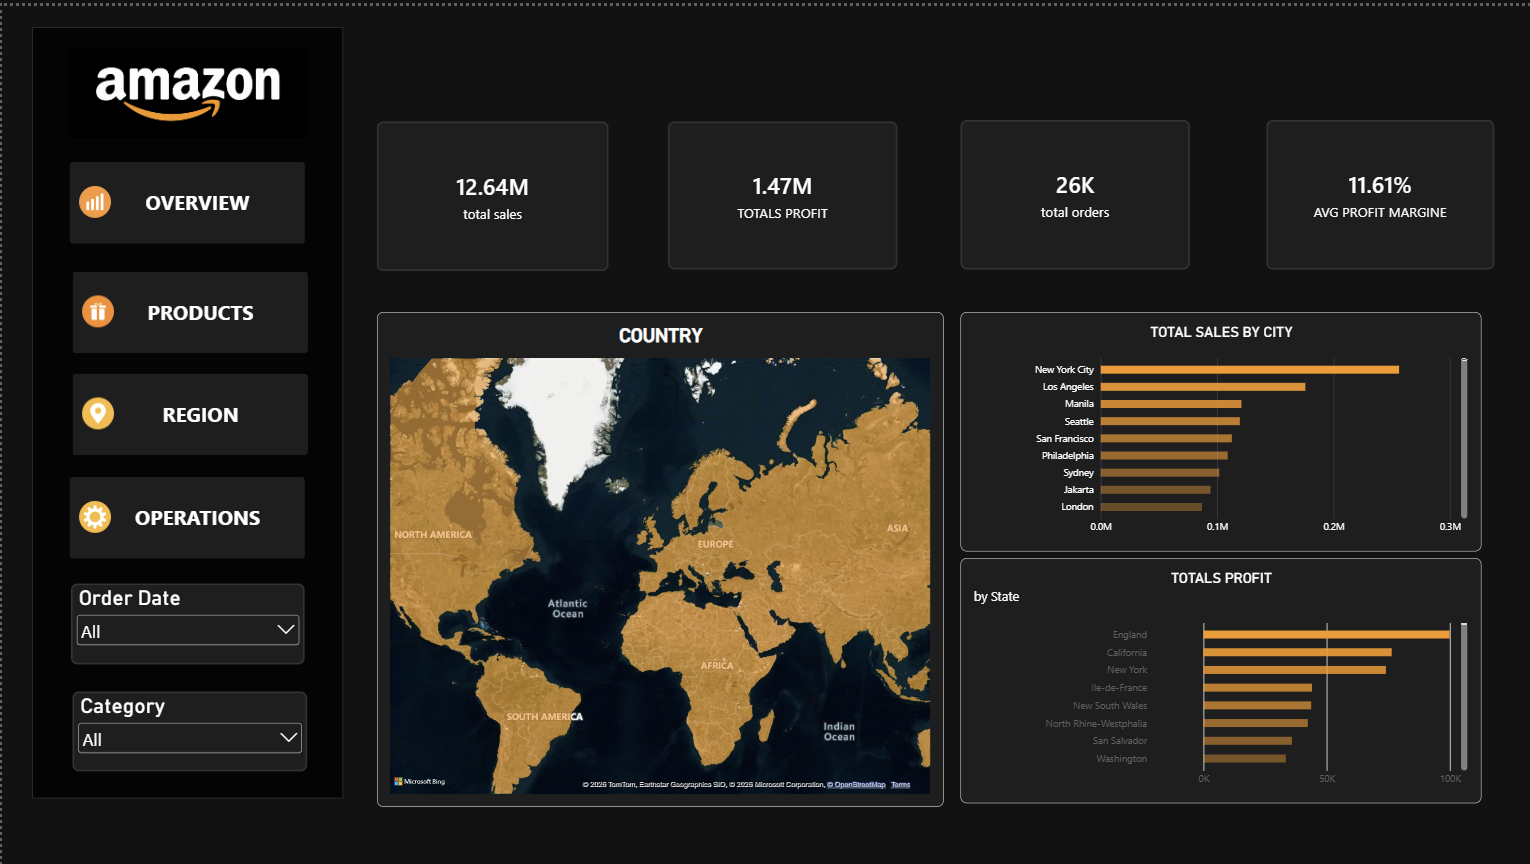

Layout of this report page (visuals, bound fields, positions):
{"tool":"powerbi","page":{"name":"REGION","canvas":[1920,1080],"ordinal":2},"visuals":[{"type":"card","fields":{"Values":["Orders.total sales"]},"box":[470,145,290,187.5],"z":0},{"type":"card","fields":{"Values":["Orders.total orders"]},"box":[1200,142.5,287.5,187.5],"z":1000},{"type":"card","fields":{"Values":["Orders.TOTALS PROFIT"]},"box":[835,145,287.5,185],"z":2000},{"type":"card","fields":{"Values":["Orders.AVG PROFIT MARGINE"]},"box":[1585,142.5,285,187.5],"z":3000},{"type":"clusteredBarChart","title":"TOTAL SALES BY CITY","fields":{"Y":["Orders.total sales"],"Category":["Orders.City"]},"box":[1200,382.5,652.5,300],"z":4000},{"type":"clusteredBarChart","fields":{"Category":["Orders.State"],"Y":["Orders.TOTALS PROFIT"]},"box":[1200,692.5,652.5,307.5],"z":5000},{"type":"textbox","box":[5,100,290,188],"z":6000},{"type":"shape","box":[36.7,26.7,390,966.7],"z":7000},{"type":"actionButton","box":[85,195,295,102.5],"z":8000},{"type":"actionButton","box":[87.5,332.5,295,102.5],"z":9000},{"type":"actionButton","box":[87.5,460,295,102.5],"z":10000},{"type":"actionButton","box":[85,590,295,102.5],"z":11000},{"type":"slicer","fields":{"Values":["Orders.Order Date"]},"box":[87.1,724.3,292.9,101.4],"z":12000},{"type":"slicer","fields":{"Values":["Orders.Category"]},"box":[88.6,858.6,294.3,100],"z":13000},{"type":"image","box":[82.5,0,300,217.5],"z":14000},{"type":"filledMap","title":"COUNTRY","fields":{"Category":["Orders.Country"]},"box":[470,383.3,710,620],"z":15000}]}

Visuals, with their boxes in screenshot pixels (x1, y1, x2, y2), scaled from the page's 1920x1080 canvas onto the 1530x864 screenshot:
card - Orders.total sales: Rect(375, 116, 606, 266)
card - Orders.total orders: Rect(956, 114, 1185, 264)
card - Orders.TOTALS PROFIT: Rect(665, 116, 894, 264)
card - Orders.AVG PROFIT MARGINE: Rect(1263, 114, 1490, 264)
"TOTAL SALES BY CITY" clusteredBarChart: Rect(956, 306, 1476, 546)
clusteredBarChart - Orders.State x Orders.TOTALS PROFIT: Rect(956, 554, 1476, 800)
textbox: Rect(4, 80, 235, 230)
shape: Rect(29, 21, 340, 795)
actionButton: Rect(68, 156, 303, 238)
actionButton: Rect(70, 266, 305, 348)
actionButton: Rect(70, 368, 305, 450)
actionButton: Rect(68, 472, 303, 554)
slicer - Orders.Order Date: Rect(69, 579, 303, 661)
slicer - Orders.Category: Rect(71, 687, 305, 767)
image: Rect(66, 0, 305, 174)
"COUNTRY" filledMap: Rect(375, 307, 940, 803)
